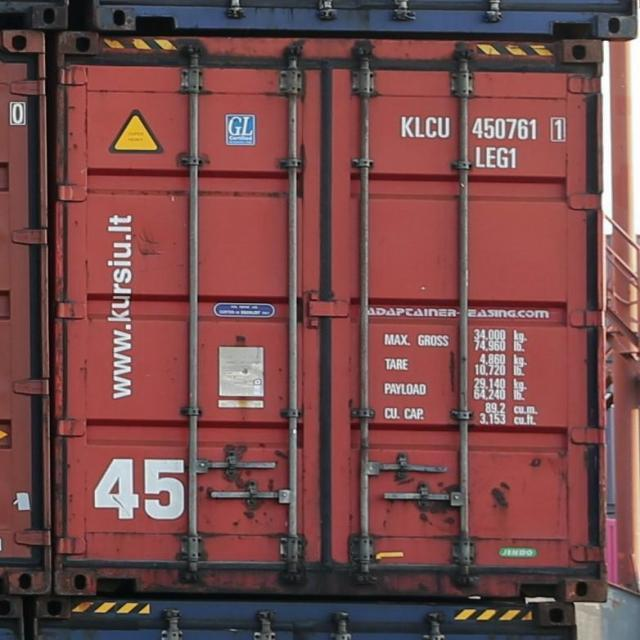ISO: (474, 147, 518, 169)
container_number: (406, 118, 572, 142)
